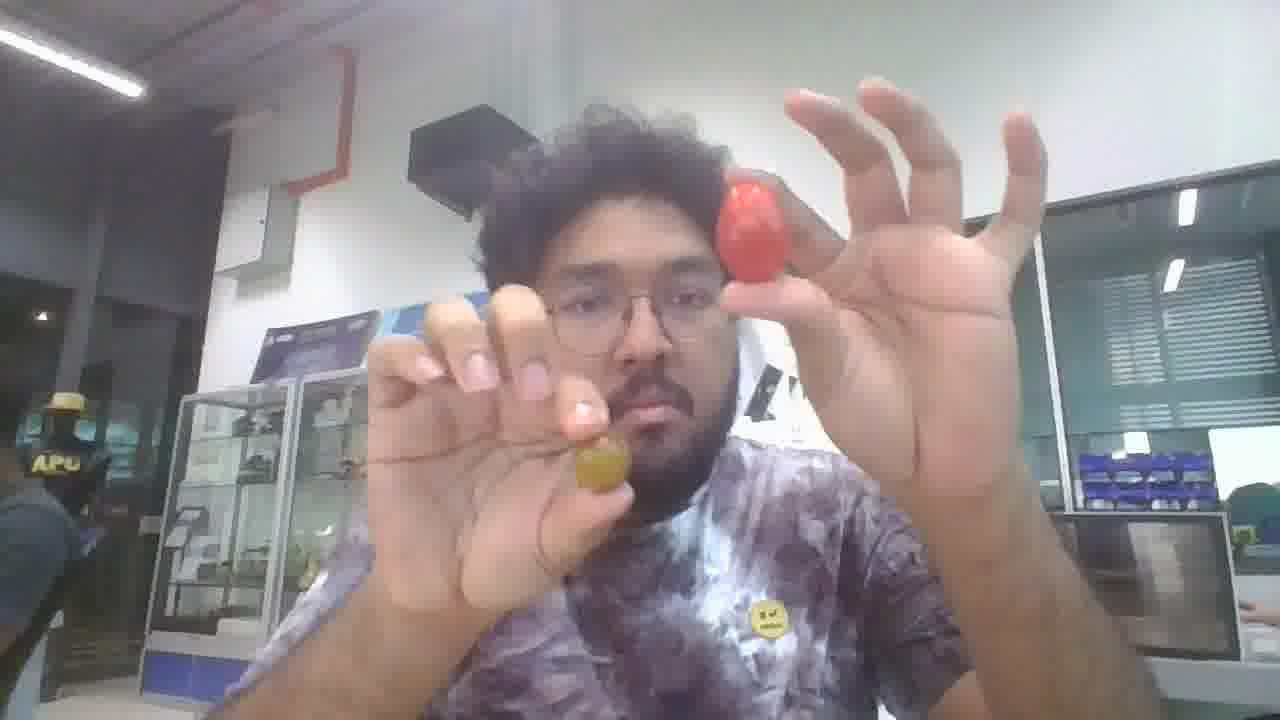red_cherry_tomato: (717, 182, 790, 282)
yellow_cherry_tomato: (576, 436, 629, 492)
